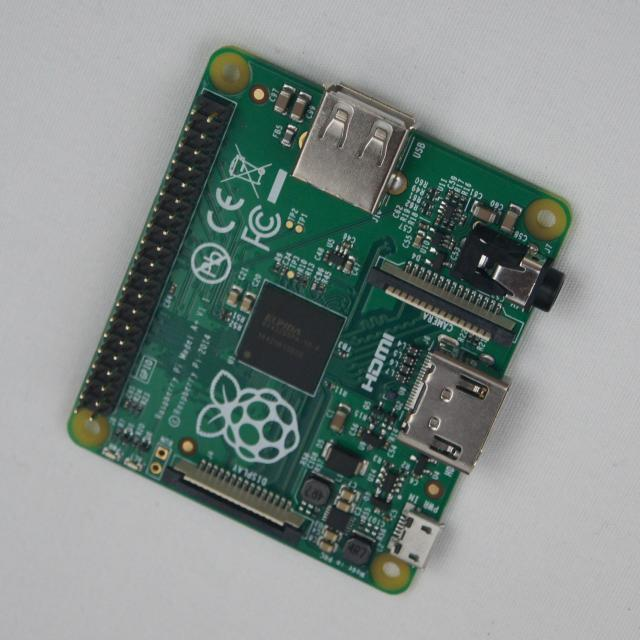Raspberry-Pi-1-A-: (68, 48, 570, 594)
